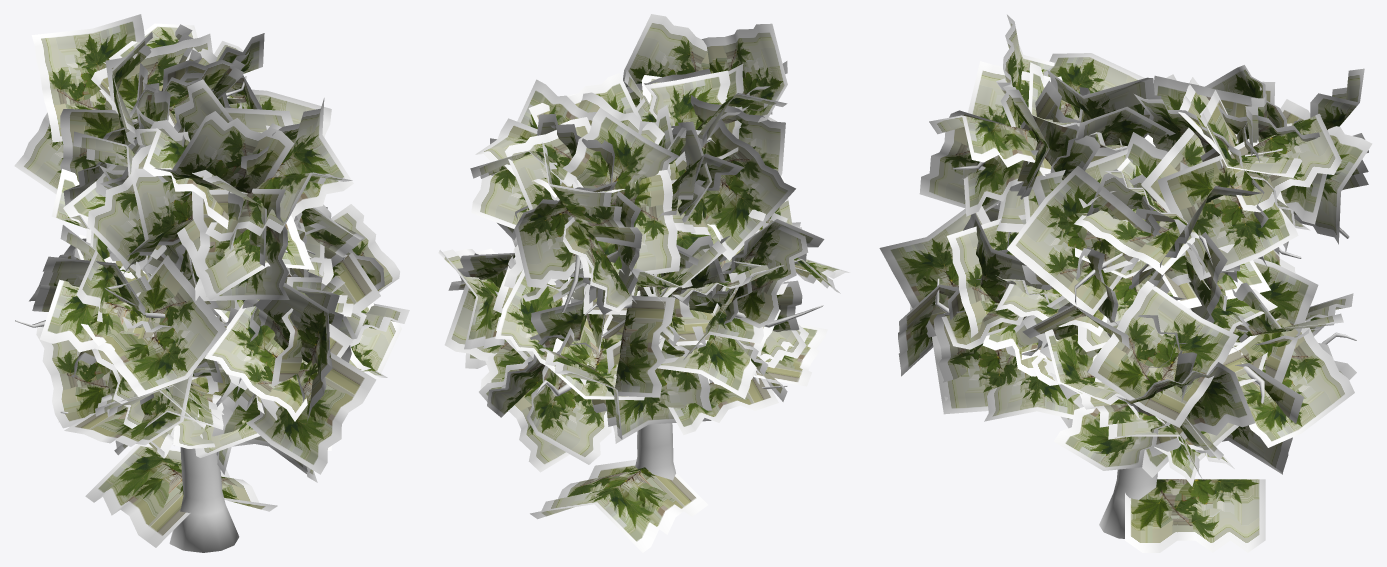
Rendered from Tree_2_FULL.fbx.
The picture shows the model from 3 angles, left to right: view 1: azimuth 30°, elevation 25°; view 2: azimuth 150°, elevation 25°; view 3: azimuth 270°, elevation 25°; orthographic projection. The views are drawn at different scales.
Parts seen in each view (by area): view 1: Stronk|Blaadjes|Dupli|110, Blaadjes, Stronk|Blaadjes|Dupli|135, Stronk|Blaadjes|Dupli|118, Stronk|Blaadjes|Dupli|139, Stronk|Blaadjes|Dupli|117, Stronk, Stronk|Blaadjes|Dupli|145, Stronk|Blaadjes|Dupli|4, Stronk|Blaadjes|Dupli|109, Stronk|Blaadjes|Dupli|35, Stronk|Blaadjes|Dupli|119 (+48 smaller); view 2: Blaadjes, Stronk|Blaadjes|Dupli|45, Stronk|Blaadjes|Dupli|9, Stronk|Blaadjes|Dupli|83, Stronk|Blaadjes|Dupli|67, Stronk|Blaadjes|Dupli|139, Stronk|Blaadjes|Dupli|138, Stronk|Blaadjes|Dupli|36, Stronk|Blaadjes|Dupli|98, Stronk|Blaadjes|Dupli|4, Stronk|Blaadjes|Dupli|130, Stronk|Blaadjes|Dupli|17 (+48 smaller); view 3: Stronk|Blaadjes|Dupli|84, Blaadjes, Stronk|Blaadjes|Dupli|55, Stronk|Blaadjes|Dupli|72, Stronk|Blaadjes|Dupli|81, Stronk|Blaadjes|Dupli|119, Stronk|Blaadjes|Dupli|73, Stronk|Blaadjes|Dupli|13, Stronk|Blaadjes|Dupli|34, Stronk|Blaadjes|Dupli|51, Stronk|Blaadjes|Dupli|24, Stronk|Blaadjes|Dupli|120 (+51 smaller).
Part boxes in pixels (x1,y1,x2,y2): Stronk|Blaadjes|Dupli|110: [81, 255, 226, 396]; Blaadjes: [85, 444, 277, 547]; Stronk|Blaadjes|Dupli|135: [31, 14, 144, 142]; Stronk|Blaadjes|Dupli|118: [246, 352, 376, 474]; Stronk|Blaadjes|Dupli|139: [140, 111, 293, 193]; Stronk|Blaadjes|Dupli|117: [204, 299, 352, 421]; Stronk: [15, 76, 344, 552]; Stronk|Blaadjes|Dupli|145: [192, 188, 289, 301]; Stronk|Blaadjes|Dupli|4: [241, 98, 353, 220]; Stronk|Blaadjes|Dupli|109: [39, 279, 153, 355]; Stronk|Blaadjes|Dupli|35: [36, 320, 153, 428]; Stronk|Blaadjes|Dupli|119: [255, 283, 332, 420]; Blaadjes: [530, 459, 707, 552]; Stronk|Blaadjes|Dupli|45: [704, 118, 795, 260]; Stronk|Blaadjes|Dupli|9: [550, 107, 679, 206]; Stronk|Blaadjes|Dupli|83: [526, 327, 611, 464]; Stronk|Blaadjes|Dupli|67: [613, 295, 675, 397]; Stronk|Blaadjes|Dupli|139: [701, 23, 787, 127]; Stronk|Blaadjes|Dupli|138: [514, 181, 617, 288]; Stronk|Blaadjes|Dupli|36: [572, 170, 680, 277]; Stronk|Blaadjes|Dupli|98: [606, 326, 712, 443]; Stronk|Blaadjes|Dupli|4: [623, 14, 713, 87]; Stronk|Blaadjes|Dupli|130: [732, 221, 808, 328]; Stronk|Blaadjes|Dupli|17: [657, 289, 780, 398]; Stronk|Blaadjes|Dupli|84: [1088, 281, 1239, 427]; Blaadjes: [1125, 479, 1265, 552]; Stronk|Blaadjes|Dupli|55: [1007, 166, 1161, 315]; Stronk|Blaadjes|Dupli|72: [1157, 139, 1298, 280]; Stronk|Blaadjes|Dupli|81: [1222, 318, 1354, 447]; Stronk|Blaadjes|Dupli|119: [879, 206, 990, 337]; Stronk|Blaadjes|Dupli|73: [1236, 113, 1341, 212]; Stronk|Blaadjes|Dupli|13: [1074, 132, 1194, 274]; Stronk|Blaadjes|Dupli|34: [1116, 362, 1255, 456]; Stronk|Blaadjes|Dupli|51: [1053, 378, 1170, 470]; Stronk|Blaadjes|Dupli|24: [947, 214, 1026, 337]; Stronk|Blaadjes|Dupli|120: [932, 336, 1009, 414].
Size of the model in its own units: 446 by 533 by 495.
2 materials, 1 textured.
